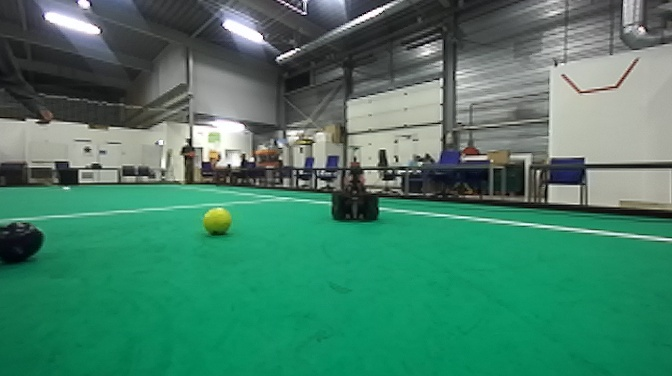ball: (1, 216, 51, 268), (200, 206, 236, 238)
robot: (325, 141, 388, 225)
